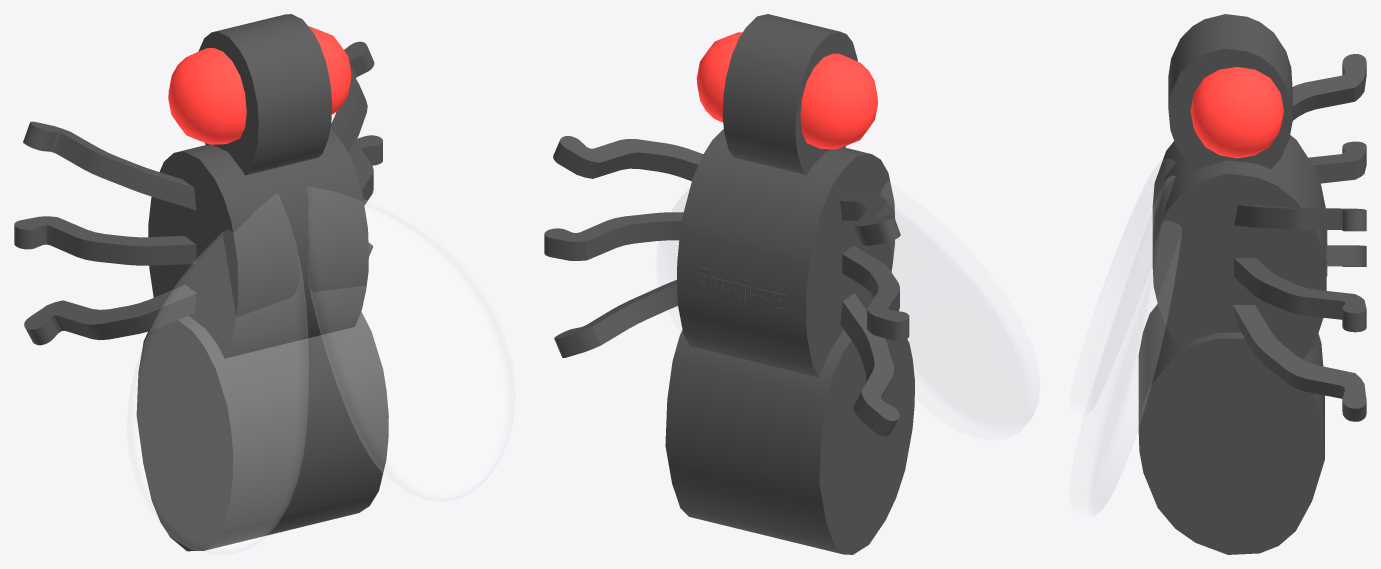
The model's file is fly.gltf.
3 views of the same model, side by side, from view 1: azimuth 30°, elevation 25°; view 2: azimuth 150°, elevation 25°; view 3: azimuth 270°, elevation 25° (orthographic). The views are drawn at different scales.
Parts seen in each view (by area): view 1: Cube.165; view 2: Cube.165; view 3: Cube.165.
Boxes of the visible parts, box(x1,y1,x2,y2) form: Cube.165: box(14, 14, 514, 554); Cube.165: box(544, 14, 1039, 554); Cube.165: box(1070, 14, 1366, 554).
Bounding box in the file's own units: 1.67 × 2.12 × 1.17.
Materials: 2 (1 with a texture image).
